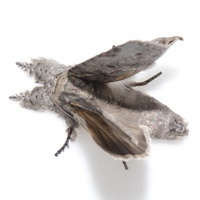insect: (10, 36, 187, 159)
